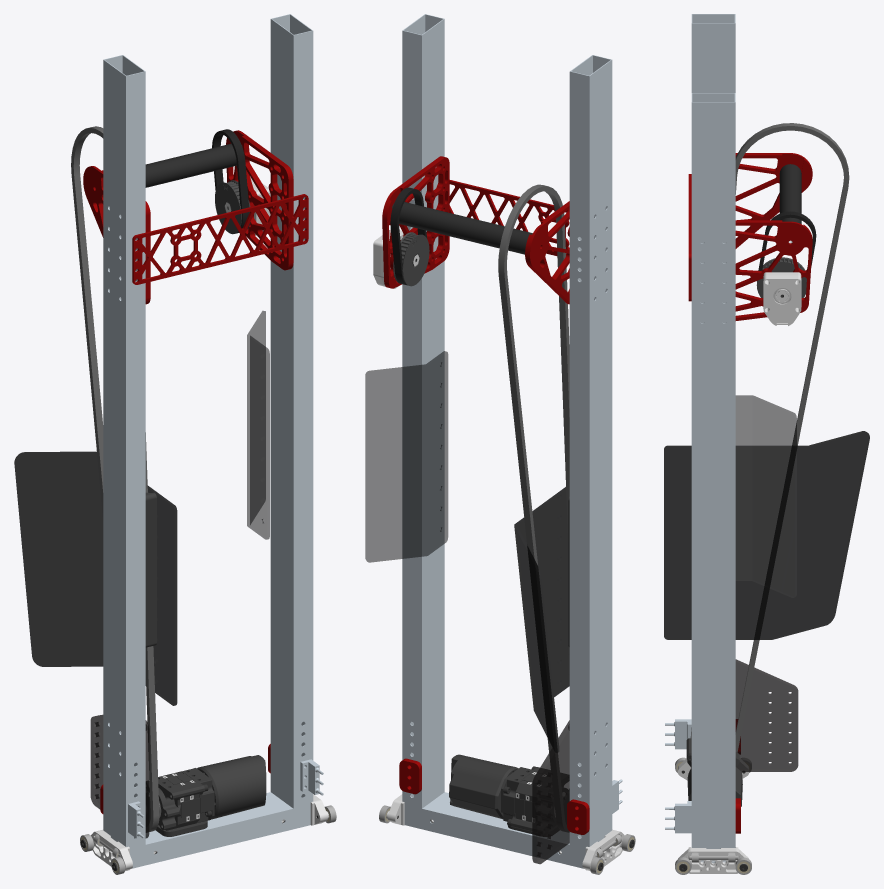
3 renders of one model, left to right at view 1: azimuth 30°, elevation 25°; view 2: azimuth 150°, elevation 25°; view 3: azimuth 270°, elevation 25°, orthographic. The views are drawn at different scales.
Parts seen in each view (by area): view 1: Tube 2"x1"x38.5" (×2), Right Funnel (×2), Second Stage Bracing, 276 links #25 chain, Left Funnel, Tube 2"x1"x7.5", Pivot Plate Mirrored, Kraken X60 Brushless Motor, 0.875" ID x 1" OD-7.25", Right Funnel Spacer, Carriage Cable Chain Mount, Pivot Plate (+6 smaller); view 2: Tube 2"x1"x38.5" (×2), Right Funnel (×2), Left Funnel, 276 links #25 chain, Tube 2"x1"x7.5", Carriage Cable Chain Mount, Pivot Plate Mirrored, Kraken X60 Brushless Motor, 0.875" ID x 1" OD-7.25", Pivot Plate, Second Stage Bracing, Hardstop (×2) (+8 smaller); view 3: Right Funnel (×2), Tube 2"x1"x38.5" (×2), Left Funnel, Carriage Cable Chain Mount, 276 links #25 chain, Pivot Plate Mirrored, Pivot Plate, id36, 25 Chain Attachment Part (ELEV-DRIVE-001) (×2), 0.875" ID x 1" OD-7.25", WCP-0897-001 Rev1, 36T HTD Pulley 10mm Wide (+2 smaller).
Part boxes in pixels (x1=…): Tube 2"x1"x38.5" (×2): x1=103, y1=14, x2=313, y2=868; Right Funnel (×2): x1=14, y1=451, x2=177, y2=705; Second Stage Bracing: x1=132, y1=194, x2=308, y2=284; 276 links #25 chain: x1=71, y1=126, x2=159, y2=832; Left Funnel: x1=247, y1=311, x2=269, y2=539; Tube 2"x1"x7.5": x1=145, y1=792, x2=293, y2=865; Pivot Plate Mirrored: x1=226, y1=130, x2=293, y2=270; Kraken X60 Brushless Motor: x1=197, y1=755, x2=266, y2=819; 0.875" ID x 1" OD-7.25": x1=145, y1=143, x2=242, y2=187; Right Funnel Spacer: x1=145, y1=492, x2=156, y2=647; Carriage Cable Chain Mount: x1=90, y1=714, x2=149, y2=838; Pivot Plate: x1=83, y1=166, x2=150, y2=304; Tube 2"x1"x38.5" (×2): x1=402, y1=14, x2=612, y2=868; Right Funnel (×2): x1=514, y1=487, x2=569, y2=752; Left Funnel: x1=365, y1=351, x2=448, y2=562; 276 links #25 chain: x1=498, y1=184, x2=569, y2=832; Tube 2"x1"x7.5": x1=422, y1=792, x2=569, y2=865; Carriage Cable Chain Mount: x1=532, y1=720, x2=569, y2=864; Pivot Plate Mirrored: x1=382, y1=156, x2=449, y2=288; Kraken X60 Brushless Motor: x1=449, y1=754, x2=518, y2=819; 0.875" ID x 1" OD-7.25": x1=392, y1=202, x2=532, y2=254; Pivot Plate: x1=525, y1=201, x2=569, y2=304; Second Stage Bracing: x1=449, y1=180, x2=569, y2=255; Hardstop (×2): x1=399, y1=758, x2=589, y2=834; Right Funnel (×2): x1=664, y1=431, x2=869, y2=639; Tube 2"x1"x38.5" (×2): x1=691, y1=14, x2=735, y2=863; Left Funnel: x1=735, y1=395, x2=796, y2=597; Carriage Cable Chain Mount: x1=735, y1=659, x2=798, y2=771; 276 links #25 chain: x1=690, y1=123, x2=849, y2=752; Pivot Plate Mirrored: x1=735, y1=220, x2=812, y2=320; Pivot Plate: x1=735, y1=153, x2=812, y2=248; id36: x1=763, y1=272, x2=801, y2=325; 25 Chain Attachment Part (ELEV-DRIVE-001) (×2): x1=665, y1=719, x2=691, y2=833; 0.875" ID x 1" OD-7.25": x1=779, y1=164, x2=801, y2=223; WCP-0897-001 Rev1: x1=678, y1=847, x2=748, y2=873; 36T HTD Pulley 10mm Wide: x1=756, y1=257, x2=806, y2=297.
Bounding box in the file's own units: 0.2886 × 0.9779 × 0.2376.
